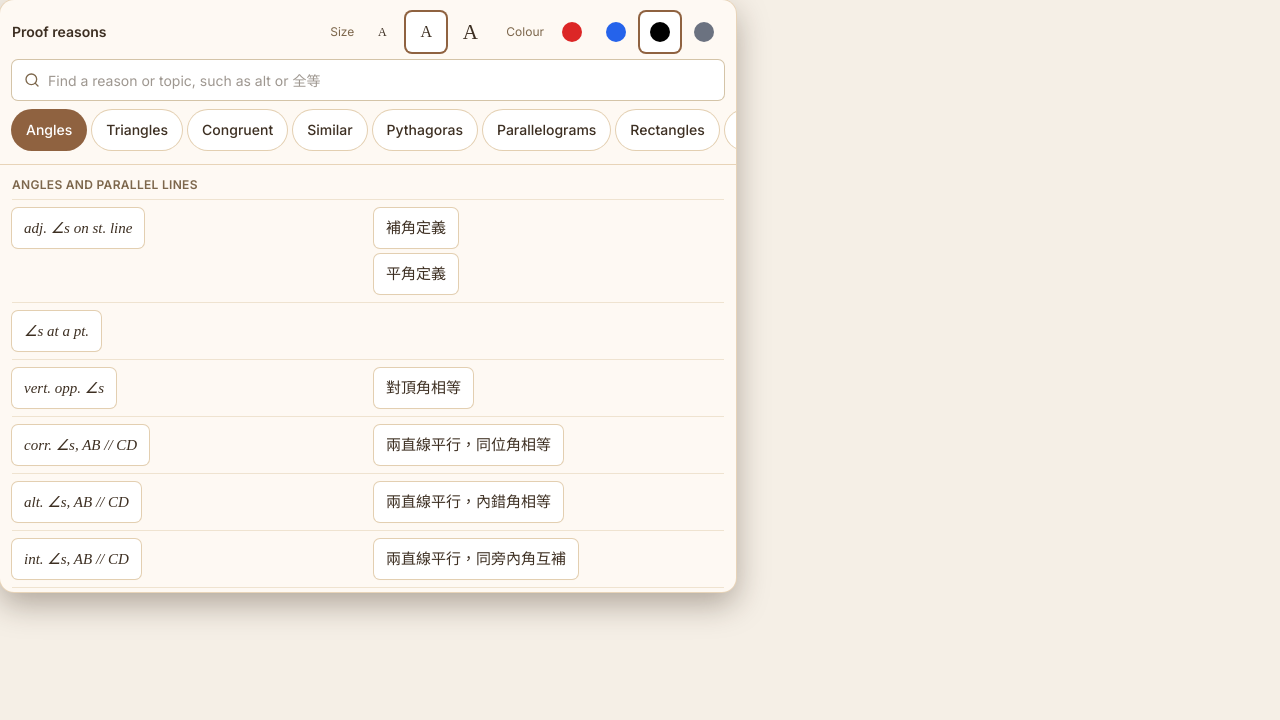
ReasonsPanel › finds reasons as they're searched for, and says so when nothing matches
Type "內錯" into the search field labelled "Find a reason" at (368, 80), box [12,60,724,100]
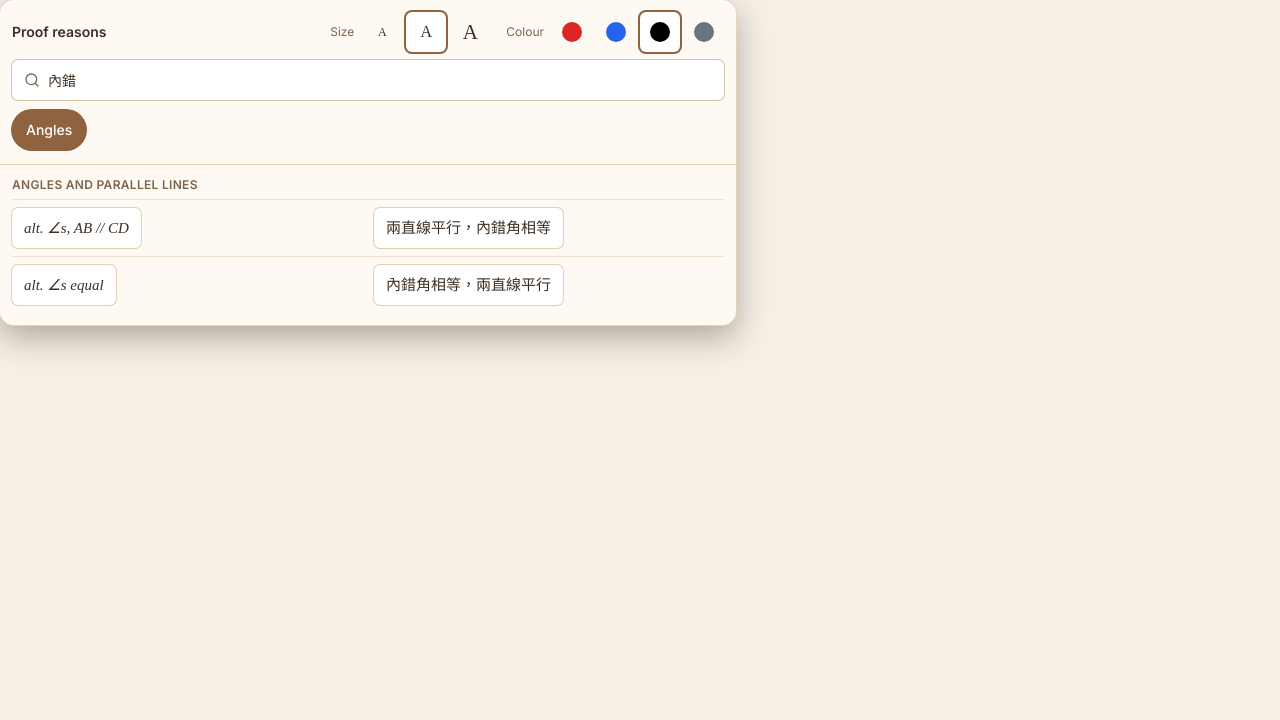
Check: the button "兩直線平行，內錯角相等" is shown, box [374,208,563,248]
Check: the button "對頂角相等" is gone
Replace the text in the search field named "Find a reason" with "xylophone" at (368, 80), box [12,60,724,100]
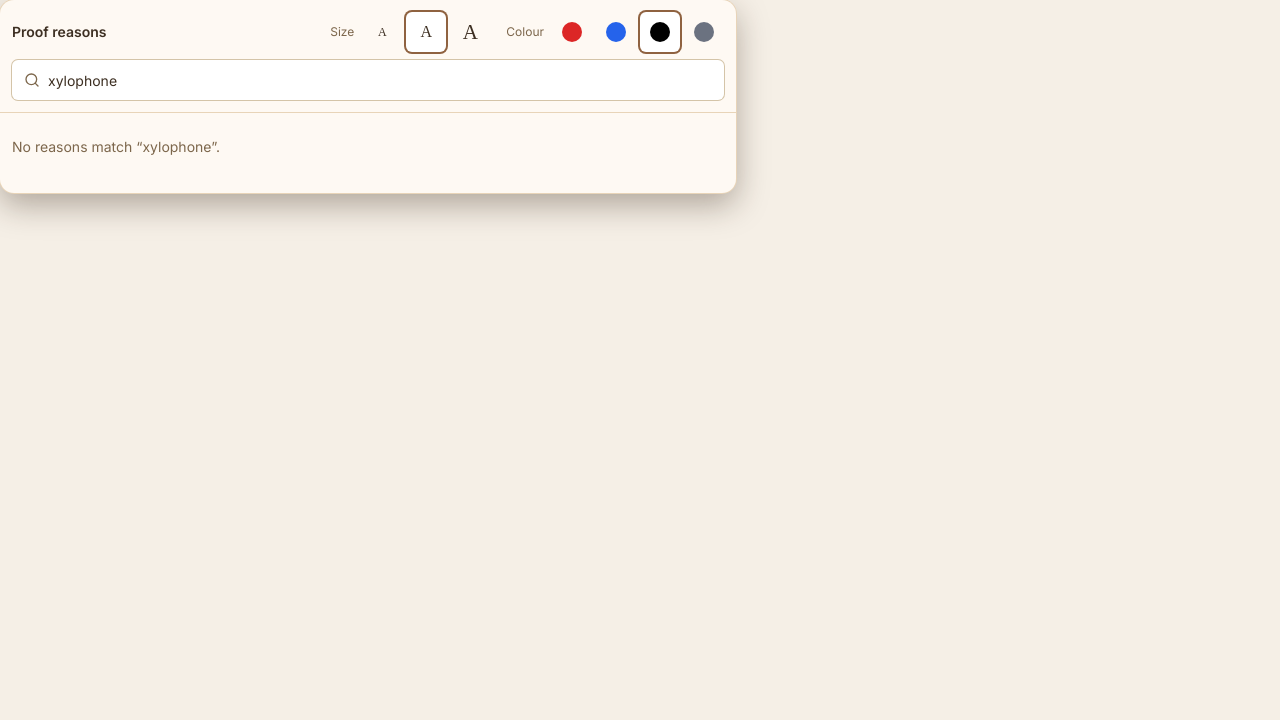
Check: the text "No reasons match “xylophone”." is shown, box [12,138,220,155]
